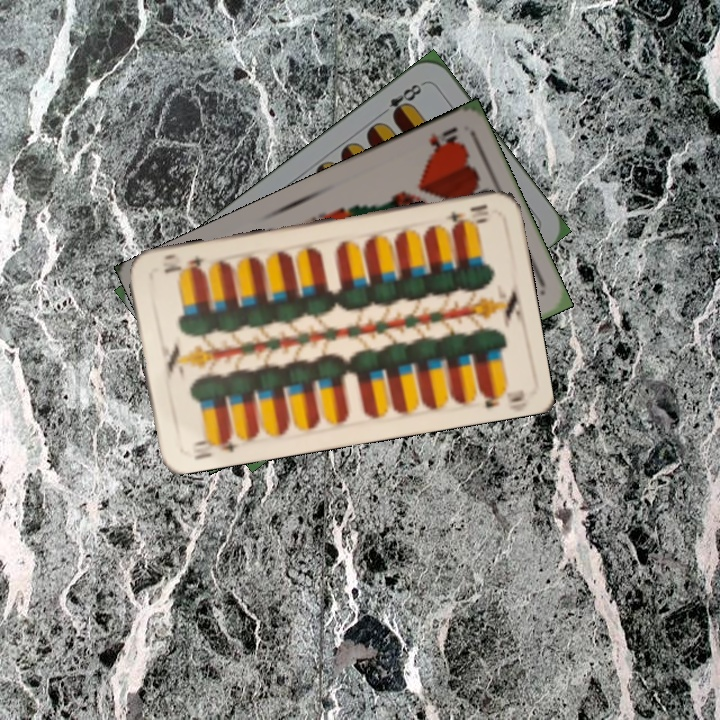E10: (187, 430, 240, 463), (441, 200, 492, 231)
E8: (376, 78, 427, 122)
HO: (424, 123, 463, 158)
